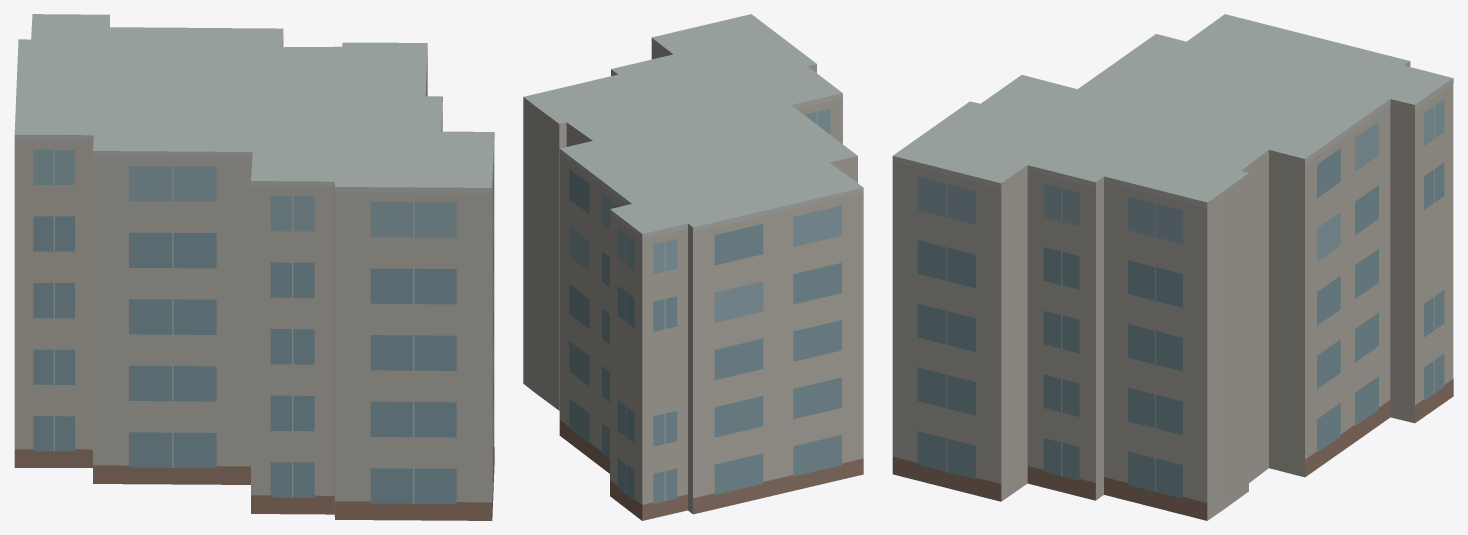
Rendered from survey-upis-32680686.glb.
The picture shows the model from 3 angles, left to right: view 1: azimuth 30°, elevation 25°; view 2: azimuth 150°, elevation 25°; view 3: azimuth 270°, elevation 25°; orthographic projection. The views are drawn at different scales.
Parts seen in each view (by area): view 1: survey-upis-32680686.tmp; view 2: survey-upis-32680686.tmp; view 3: survey-upis-32680686.tmp.
Part boxes in pixels (left/top/right/bottom): survey-upis-32680686.tmp: left=14, top=14, right=494, bottom=520; survey-upis-32680686.tmp: left=523, top=14, right=863, bottom=520; survey-upis-32680686.tmp: left=892, top=14, right=1453, bottom=520.
Bounding box in the file's own units: 18.17 × 14.3 × 22.84.
